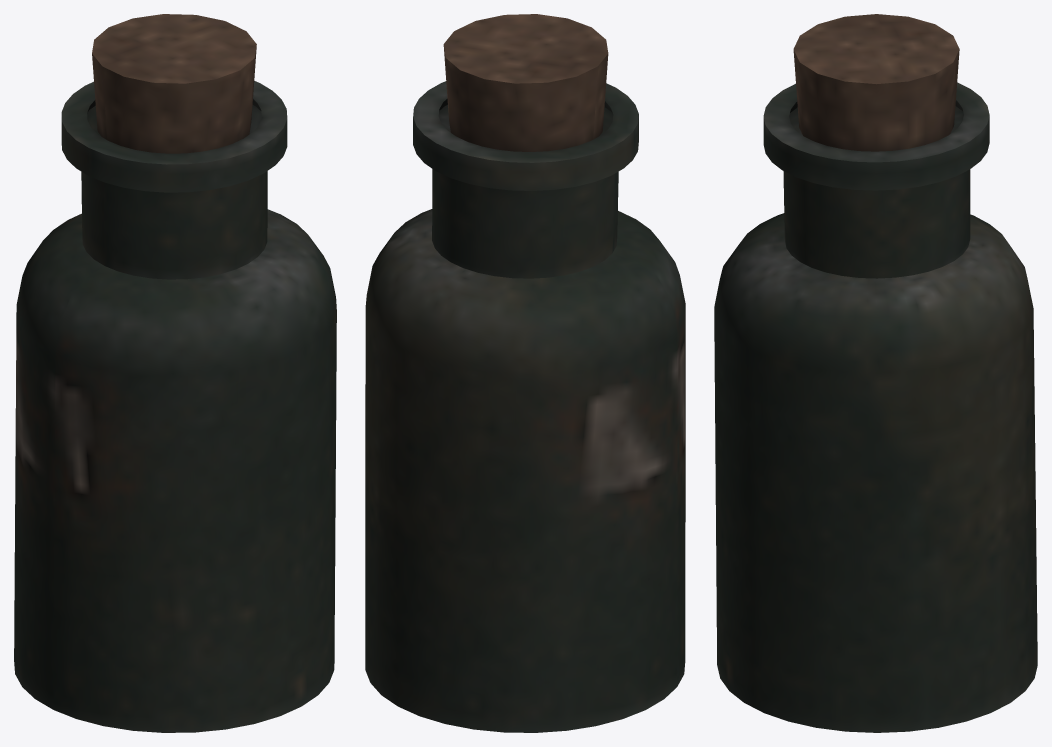
The model's file is SM_Bottles_5.fbx.
3 views of the same model, side by side, from view 1: azimuth 30°, elevation 25°; view 2: azimuth 150°, elevation 25°; view 3: azimuth 270°, elevation 25° (orthographic).
Parts seen in each view (by area): view 1: SM_Bottles_5_LOD0; view 2: SM_Bottles_5_LOD0; view 3: SM_Bottles_5_LOD0.
Boxes of the visible parts, x1=… form: SM_Bottles_5_LOD0: x1=14, y1=14, x2=336, y2=732; SM_Bottles_5_LOD0: x1=365, y1=14, x2=685, y2=732; SM_Bottles_5_LOD0: x1=714, y1=14, x2=1037, y2=732.
Size of the model in its own units: 3.77 by 3.79 by 7.96.
